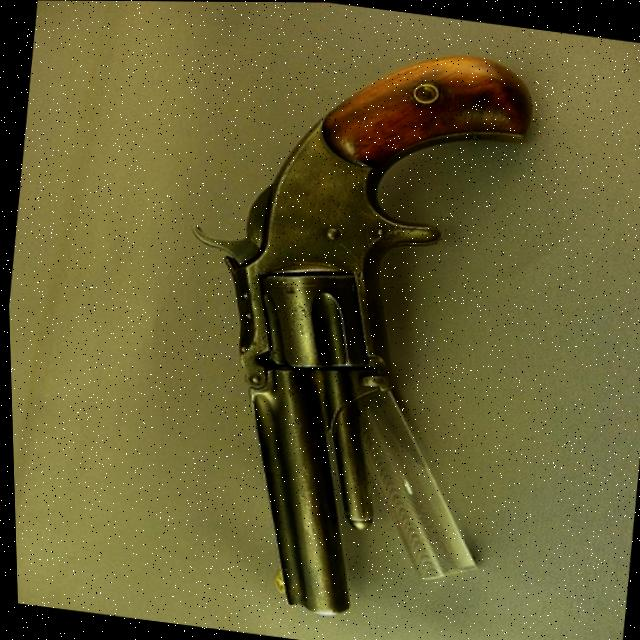pistol: (140, 22, 549, 636)
